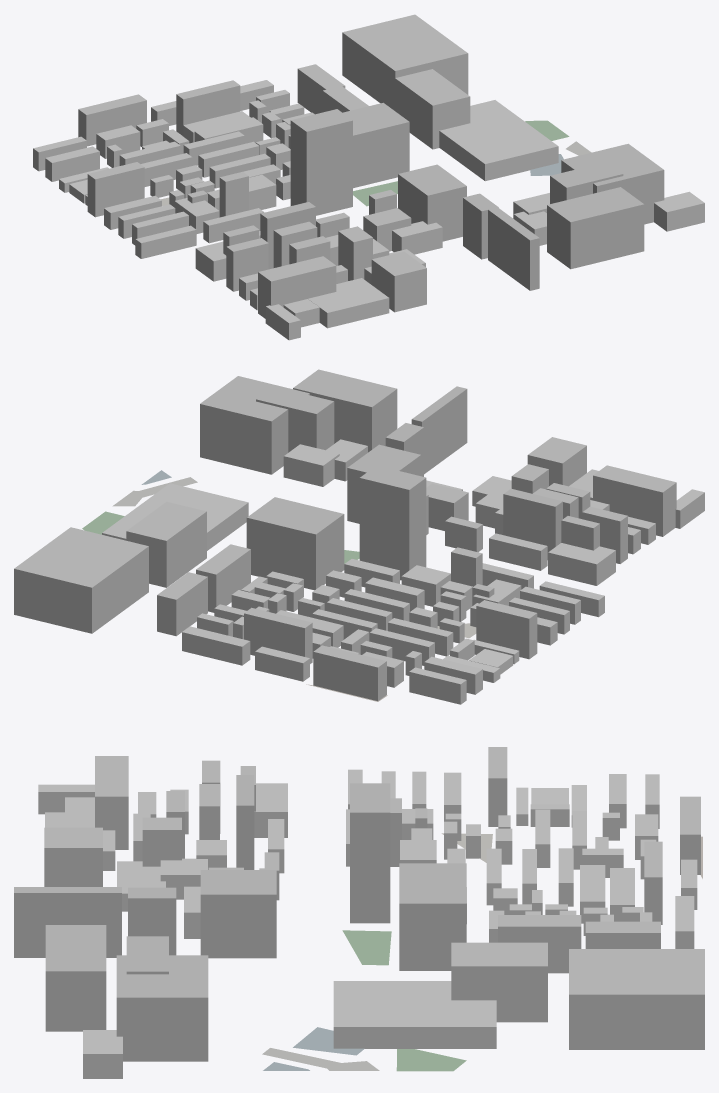
Rendered from 121_95_mid.glb.
The picture shows the model from 3 angles, top to bottom: view 1: azimuth 30°, elevation 25°; view 2: azimuth 150°, elevation 25°; view 3: azimuth 270°, elevation 25°; orthographic projection. The views are drawn at different scales.
Bounding box in the file's own units: 528 × 95.38 × 534.
